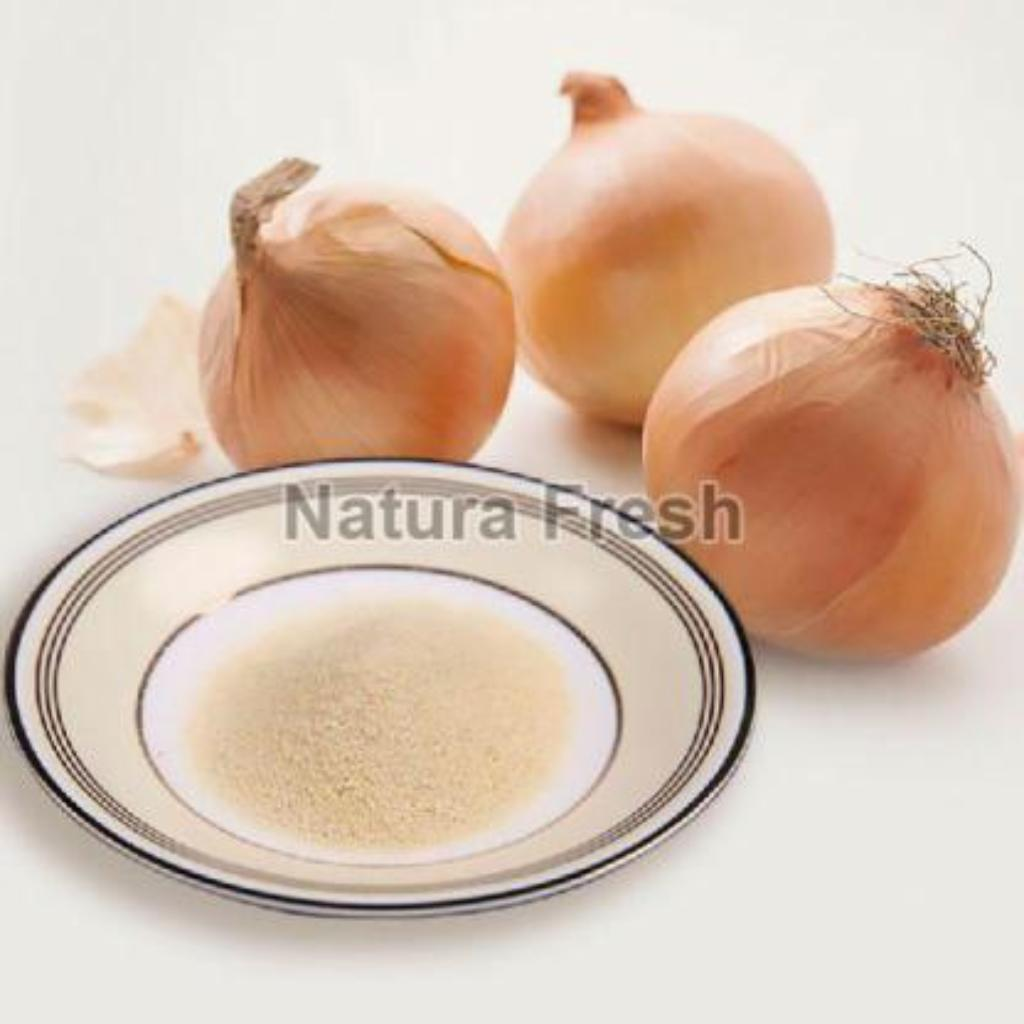Onion: (645, 266, 1019, 658), (502, 71, 837, 425), (199, 158, 517, 470)
